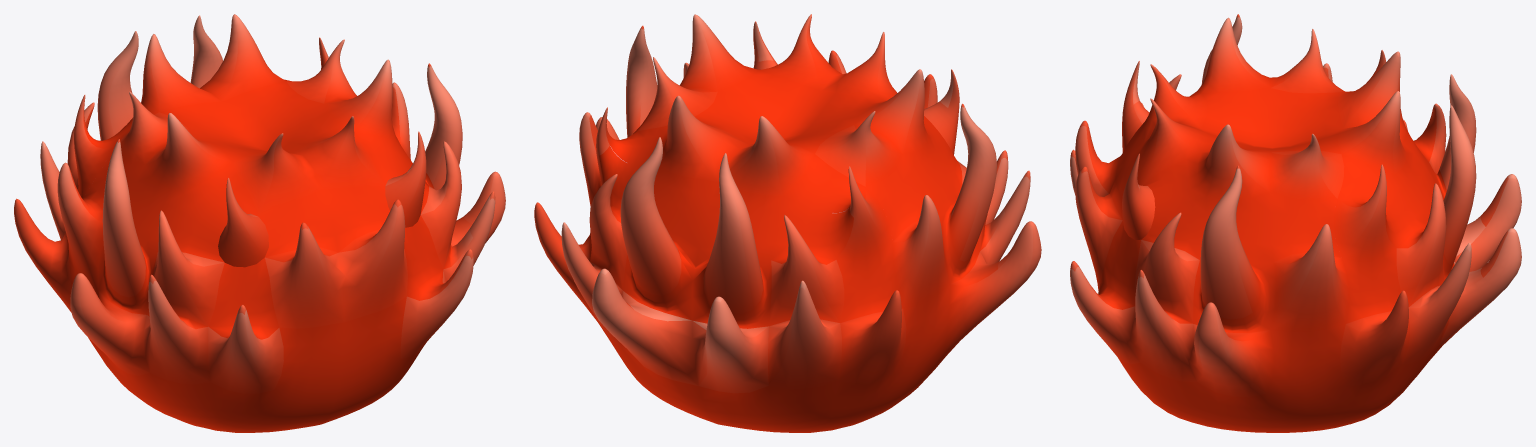
File: apple_ardente_high.fbx
3 views of the same model, side by side, from view 1: azimuth 30°, elevation 25°; view 2: azimuth 150°, elevation 25°; view 3: azimuth 270°, elevation 25° (orthographic). The views are drawn at different scales.
Visible parts, largest first — view 1: apple_standart; view 2: apple_standart; view 3: apple_standart.
Part boxes in pixels (<box>): apple_standart: <box>14,14,505,432</box>; apple_standart: <box>534,14,1041,432</box>; apple_standart: <box>1070,14,1521,432</box>.
Bounding box in the file's own units: 79.39 × 55.87 × 71.84.
